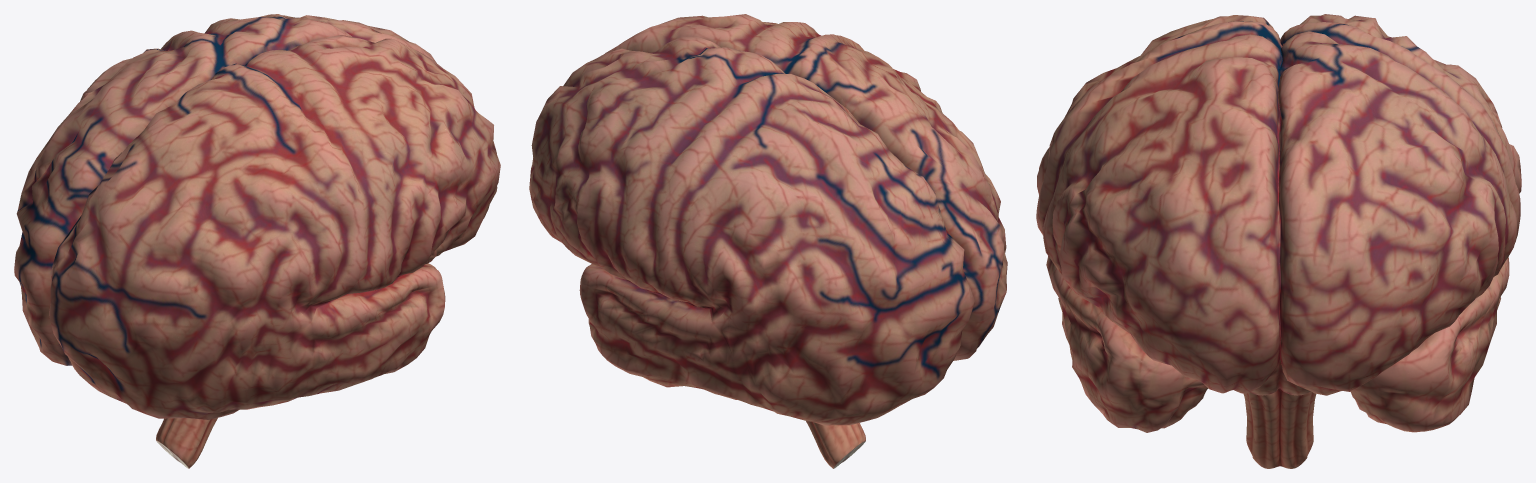
Rendered from low-poly_human_brain_model.glb.
3 renders of one model, left to right at view 1: azimuth 30°, elevation 25°; view 2: azimuth 150°, elevation 25°; view 3: azimuth 270°, elevation 25°, orthographic. The views are drawn at different scales.
Size of the model in its own units: 2 by 1.79 by 1.63.
Materials: 1 (1 with a texture image).
